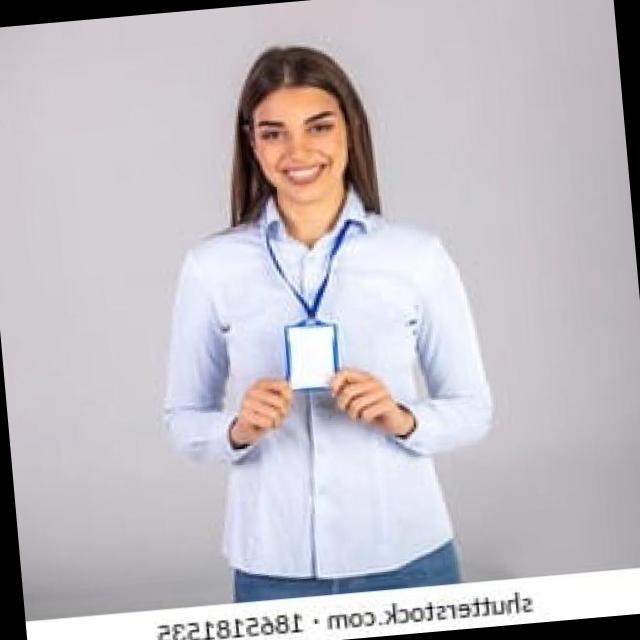id_card: (264, 212, 368, 388)
